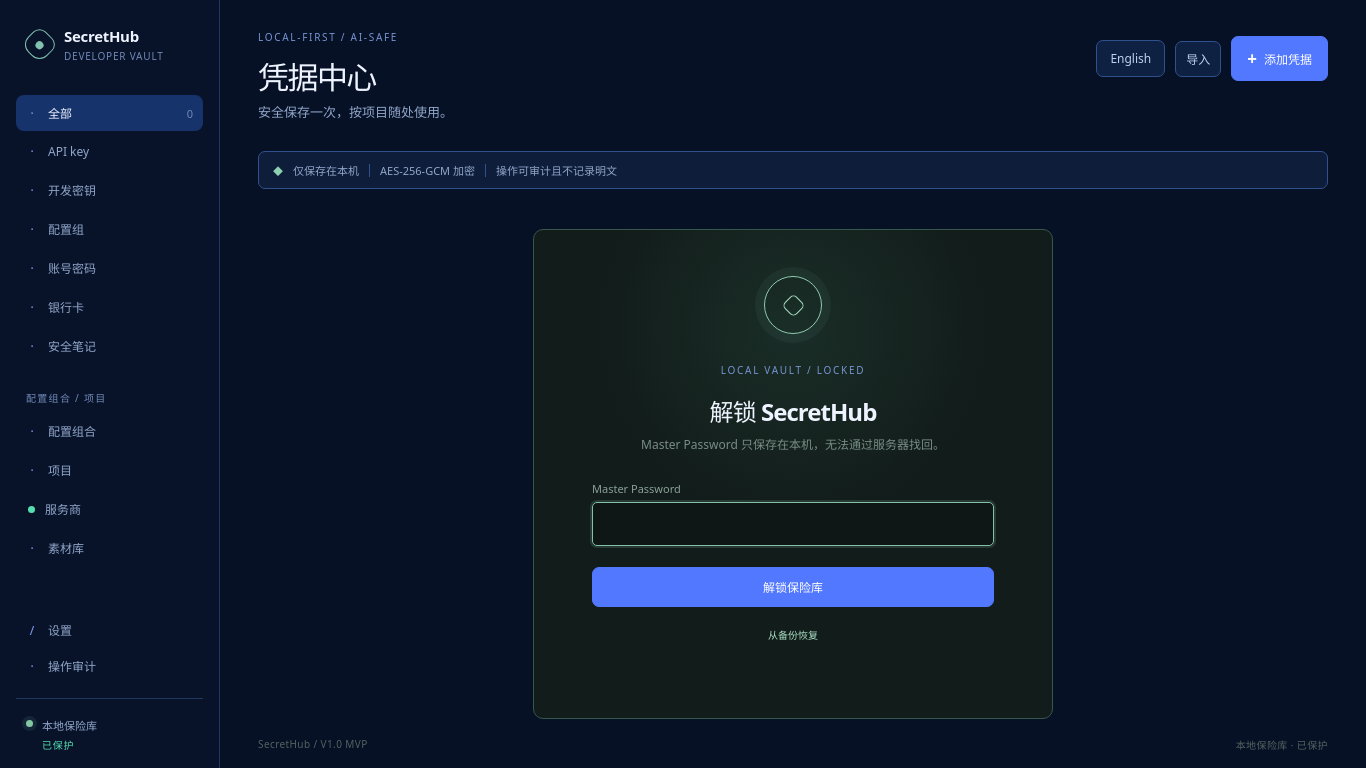
Test: media in the app shell › opens the library from the sidebar while the vault is locked
Expected: the heading "解锁 SecretHub" is shown, left=710, top=395, right=876, bottom=428
Click the button "· 素材库". click: (110, 548)
box: left=16, top=530, right=203, bottom=566
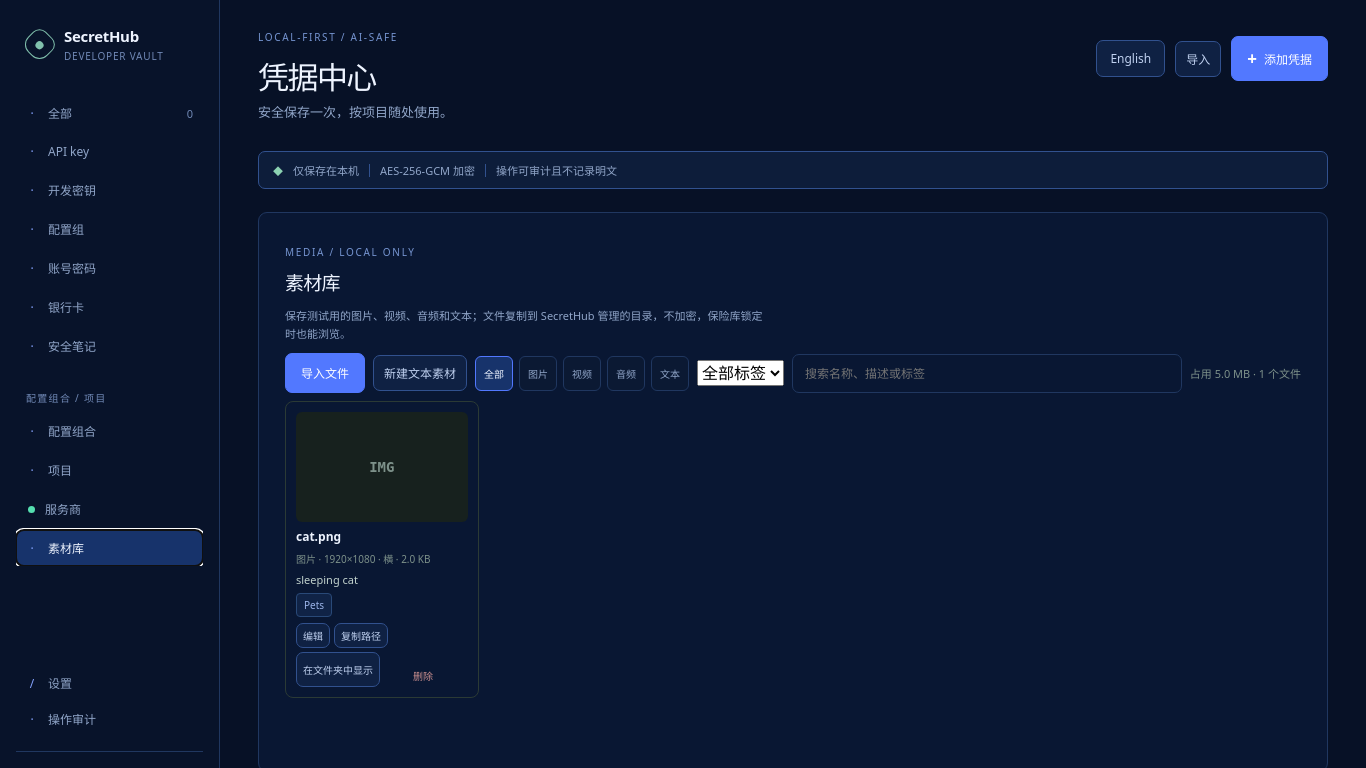
Expected: the element "cat.png" is shown, left=285, top=401, right=479, bottom=698
Expected: the heading "解锁 SecretHub" is gone
